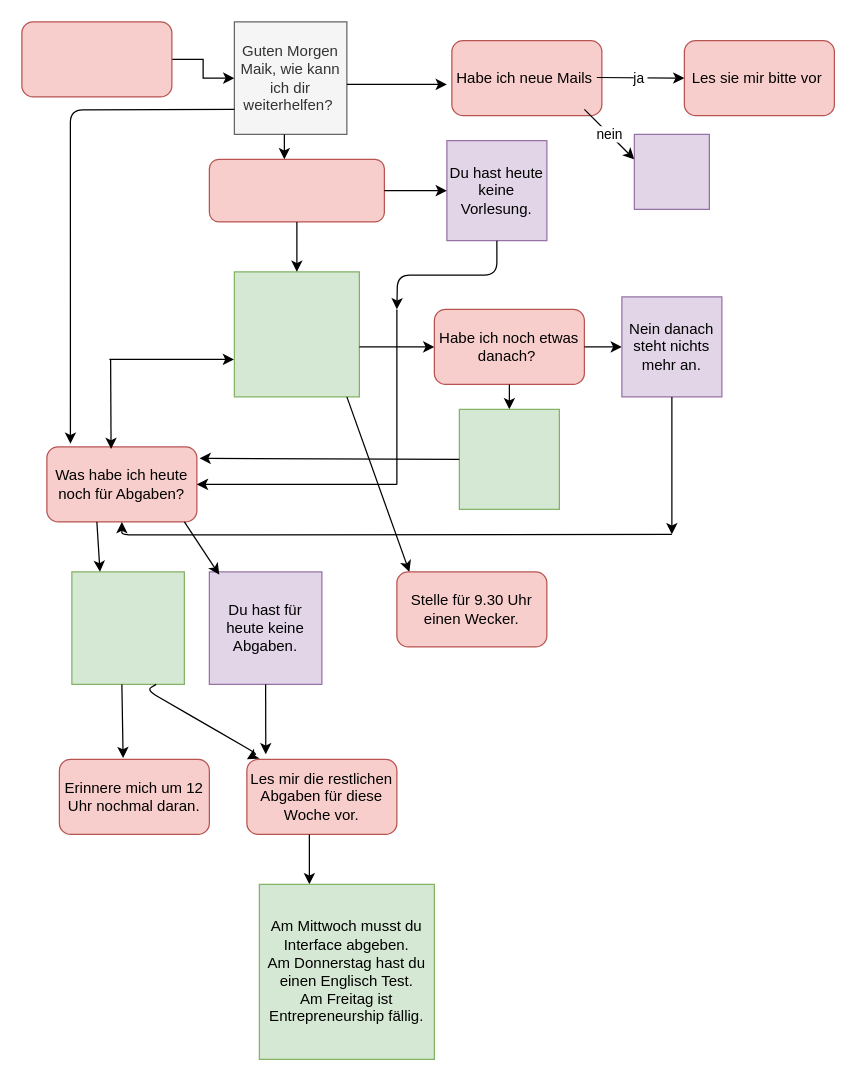
Image size: 856x1081. Some labels were removed from this diagram. The shapes that lost their labels are listed below. From the top down, each one's centre as x and y in pixels, then its label:
At (96,59): "Guten Morgen VUI".
At (296,190): "Wann habe ich heute meine erste Vorlesung?".
At (671,171): "Du hast keine neuen Mails".
At (296,334): "Um 9.45 Uhr hast du Marketing".
At (508,458): "Du hast um 12 Uhr ein Gruppentreffen".
At (127,627): "Du musst heute in Zeichnen deine Aufgabe abgeben.".
